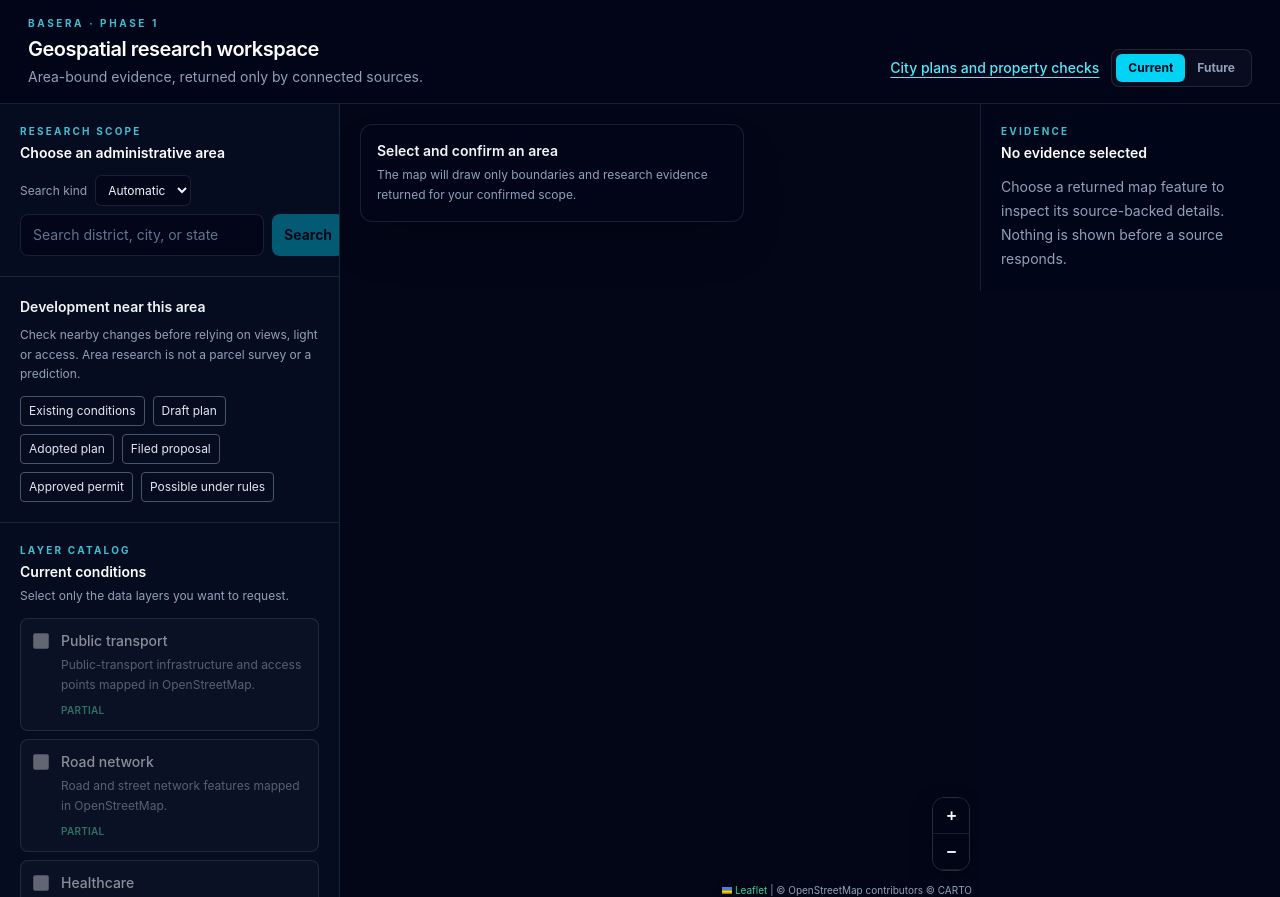
Scenario: ResearchWorkspace orchestration › clears a layer error when the last selected layer is removed
Later steps or results of the test are not shown.
Type "Pune" into the field named "Search for an area" at {"x": 142, "y": 235}, box [20,214,264,256]
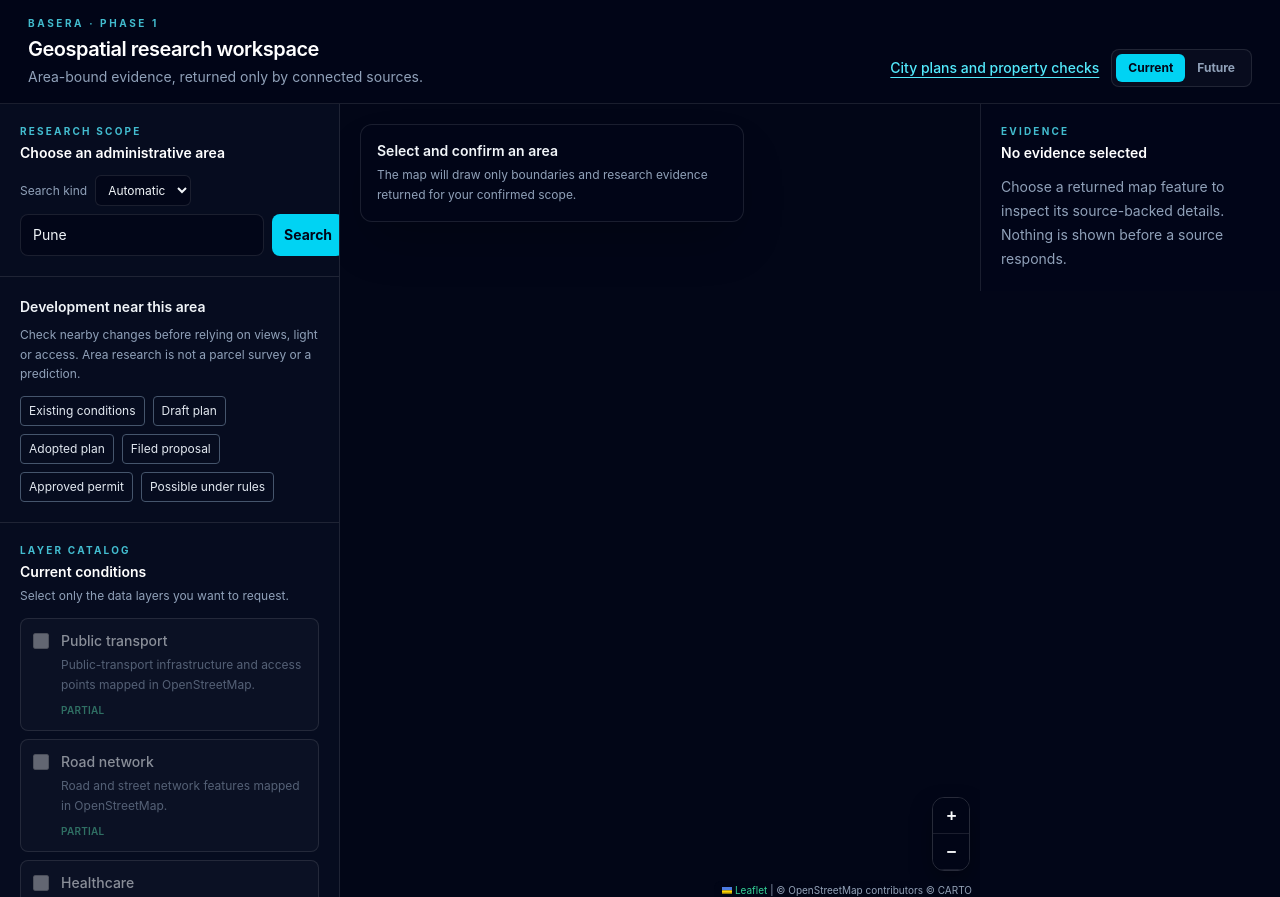
Click the button "Search" at {"x": 308, "y": 235}, box [272,214,344,256]
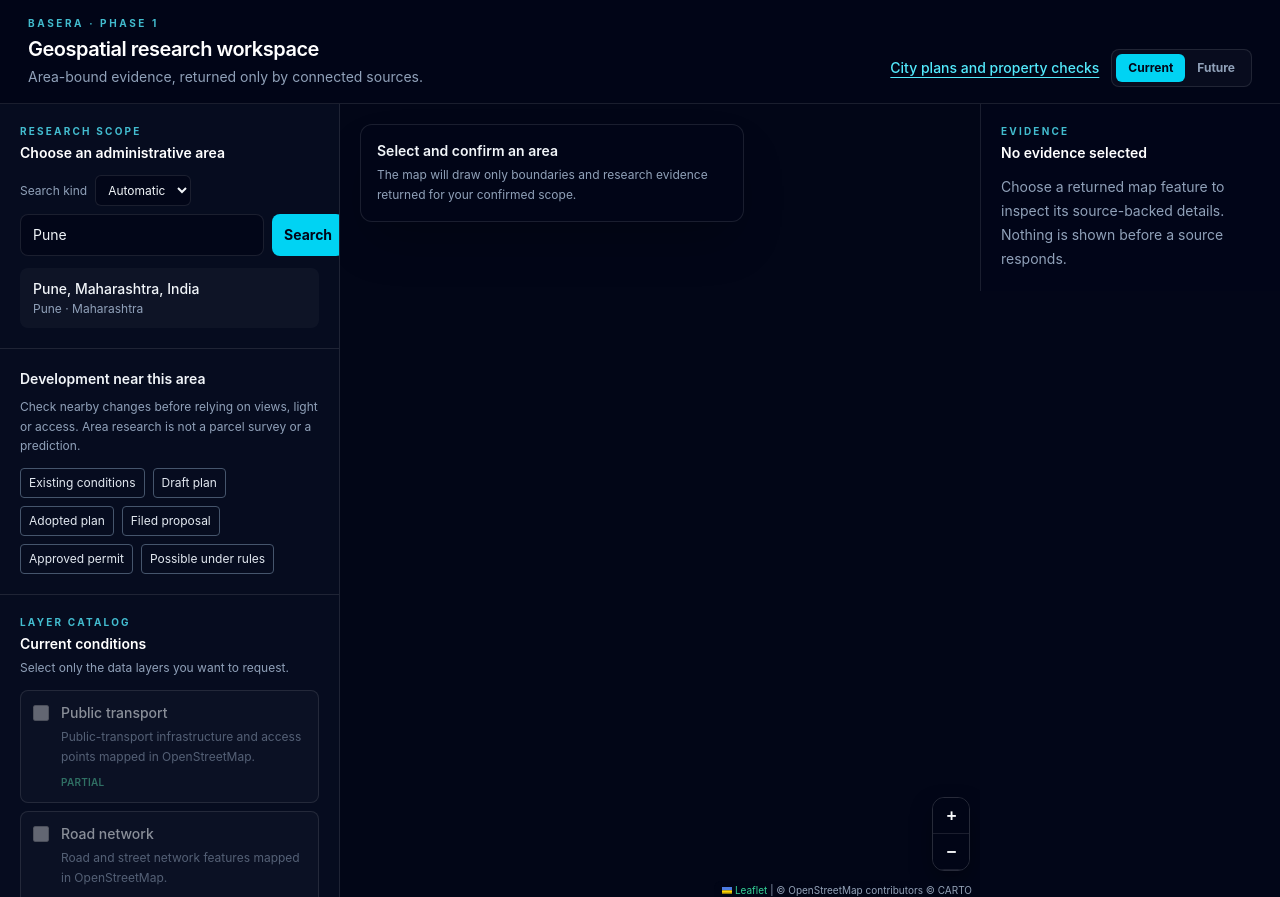
Expected: the text "Pune, Maharashtra, India" is shown, [33,280,200,297]
